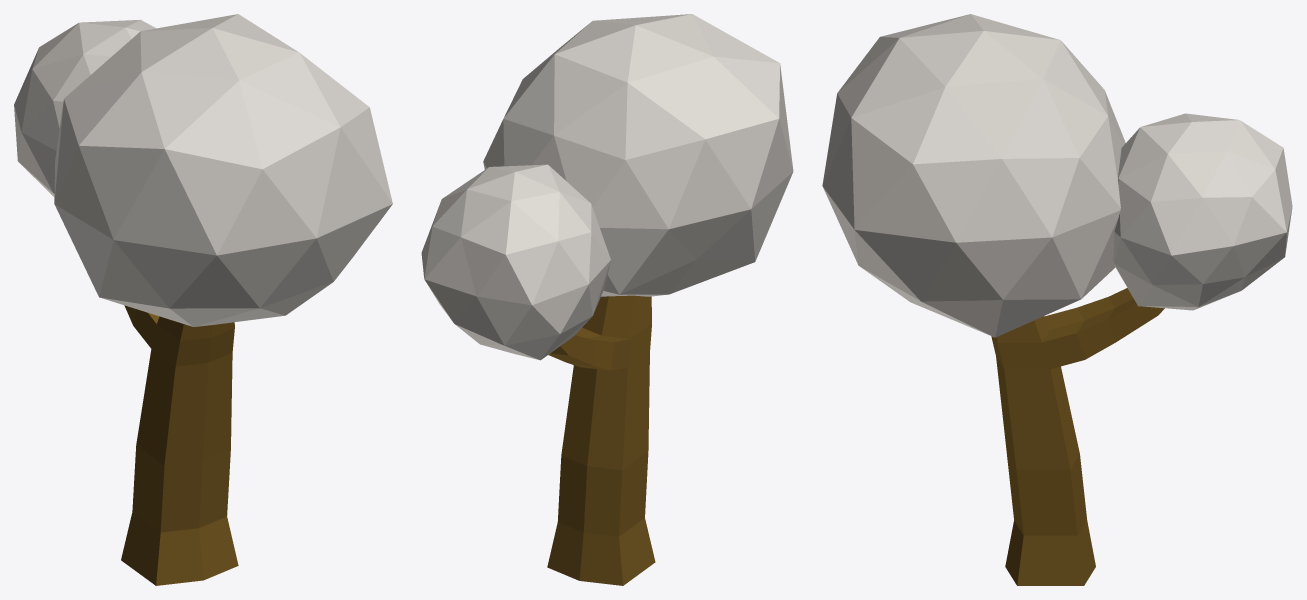
The model's file is tree_2.fbx.
3 views of the same model, side by side, from view 1: azimuth 30°, elevation 25°; view 2: azimuth 150°, elevation 25°; view 3: azimuth 270°, elevation 25° (orthographic). The views are drawn at different scales.
Visible parts, largest first — view 1: Icosphere.060; view 2: Icosphere.060; view 3: Icosphere.060.
Part boxes in pixels (bbox=[...]): Icosphere.060: bbox=[14, 14, 392, 585]; Icosphere.060: bbox=[421, 14, 793, 585]; Icosphere.060: bbox=[822, 14, 1292, 585].
Size of the model in its own units: 610 by 1144 by 911.
